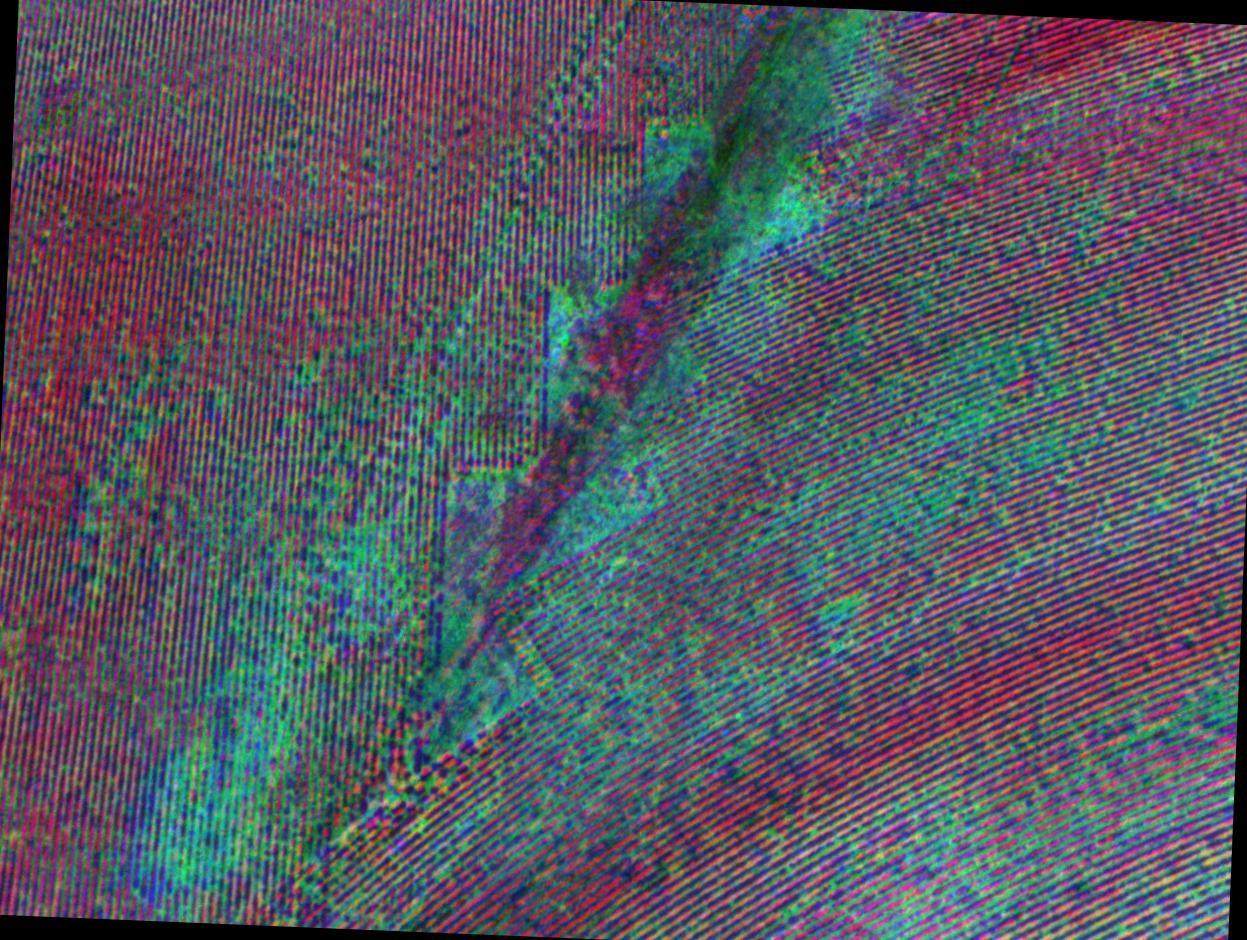dc: (141, 763, 256, 897), (871, 810, 988, 940), (901, 395, 994, 507), (301, 535, 400, 633), (743, 170, 822, 253), (578, 490, 638, 537)
